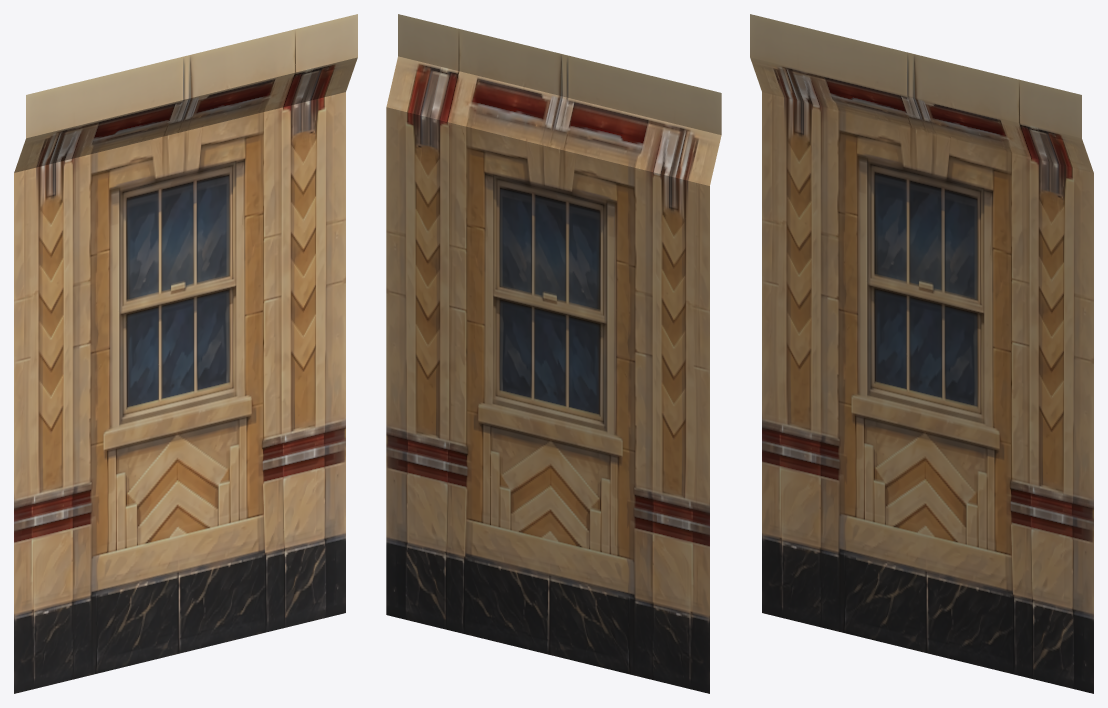
The model's file is DECO_U_Bay2A.fbx.
The picture shows the model from 3 angles, left to right: view 1: azimuth 30°, elevation 25°; view 2: azimuth 150°, elevation 25°; view 3: azimuth 330°, elevation 25°; orthographic projection. The views are drawn at different scales.
Parts seen in each view (by area): view 1: DECO_U_Bay2A; view 2: DECO_U_Bay2A; view 3: DECO_U_Bay2A.
Boxes of the visible parts, bbox=[...] form: DECO_U_Bay2A: bbox=[14, 14, 357, 693]; DECO_U_Bay2A: bbox=[386, 14, 721, 693]; DECO_U_Bay2A: bbox=[750, 14, 1093, 693].
Size of the model in its own units: 2 by 0.125 by 3.5.
Materials: 1 (1 with a texture image).
